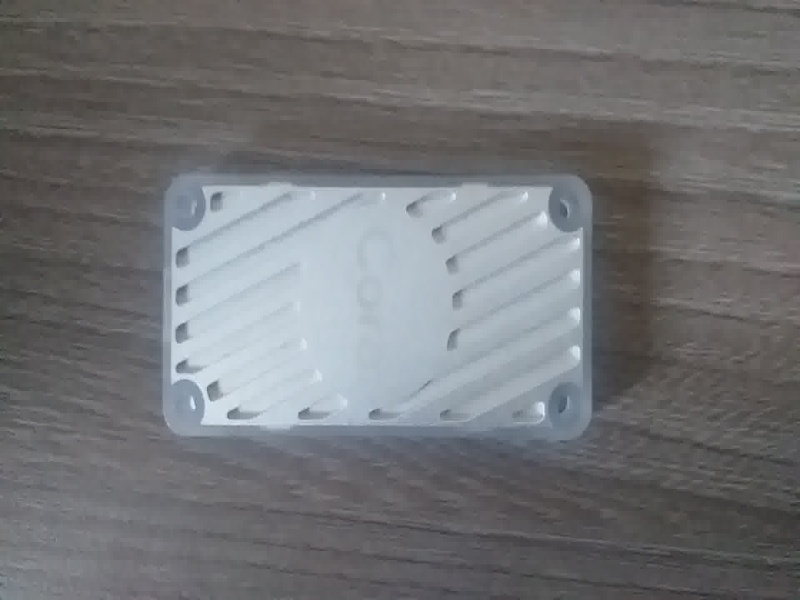coral: (151, 158, 620, 458)
